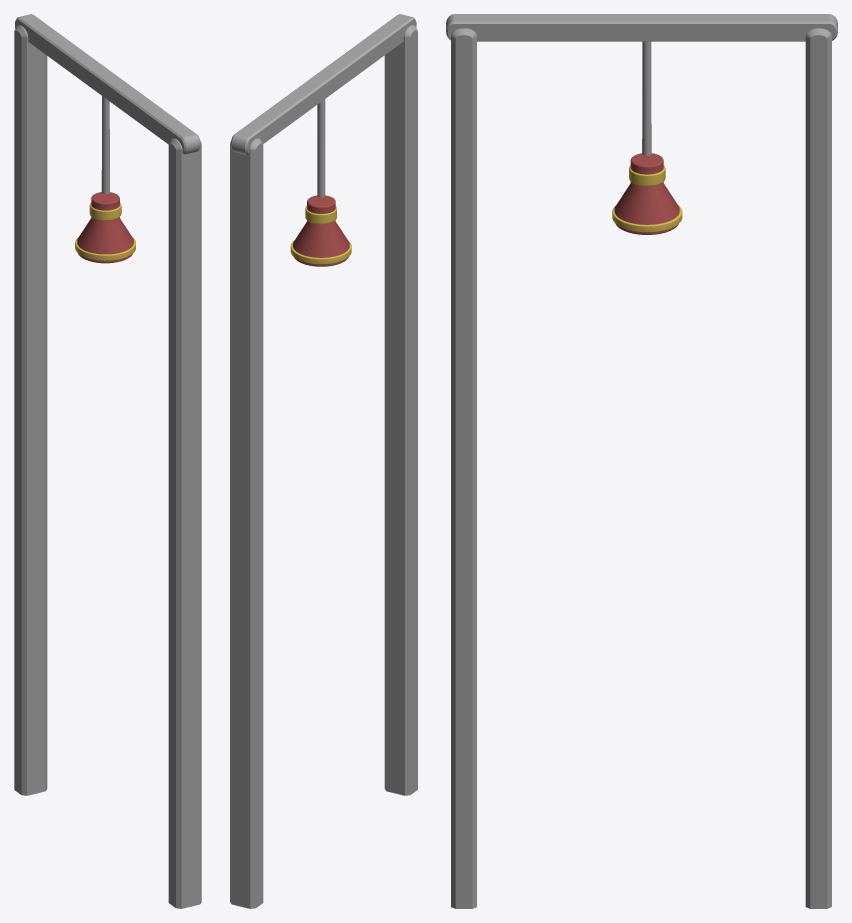
File: Obstacle_010.fbx
3 views of the same model, side by side, from view 1: azimuth 30°, elevation 25°; view 2: azimuth 150°, elevation 25°; view 3: azimuth 270°, elevation 25° (orthographic). The views are drawn at different scales.
Parts seen in each view (by area): view 1: kolon_002, kolon_008, kolon_007, polySurface12, cubuk_001; view 2: kolon_008, kolon_002, kolon_007, polySurface12, cubuk_001; view 3: kolon_008, kolon_002, kolon_007, polySurface12, cubuk_001.
Part boxes in pixels (x1=…): kolon_002: x1=168, y1=138, x2=201, y2=908; kolon_008: x1=14, y1=25, x2=47, y2=795; kolon_007: x1=15, y1=14, x2=200, y2=154; polySurface12: x1=75, y1=192, x2=135, y2=263; cubuk_001: x1=101, y1=96, x2=109, y2=194; kolon_008: x1=230, y1=138, x2=263, y2=908; kolon_002: x1=384, y1=25, x2=417, y2=795; kolon_007: x1=231, y1=14, x2=416, y2=154; polySurface12: x1=290, y1=195, x2=351, y2=266; cubuk_001: x1=317, y1=99, x2=325, y2=197; kolon_008: x1=805, y1=28, x2=831, y2=908; kolon_002: x1=451, y1=28, x2=476, y2=908; kolon_007: x1=446, y1=14, x2=837, y2=41; polySurface12: x1=612, y1=153, x2=682, y2=234; cubuk_001: x1=642, y1=41, x2=651, y2=155.
Bounding box in the file's own units: 8.07 × 112 × 45.17.
